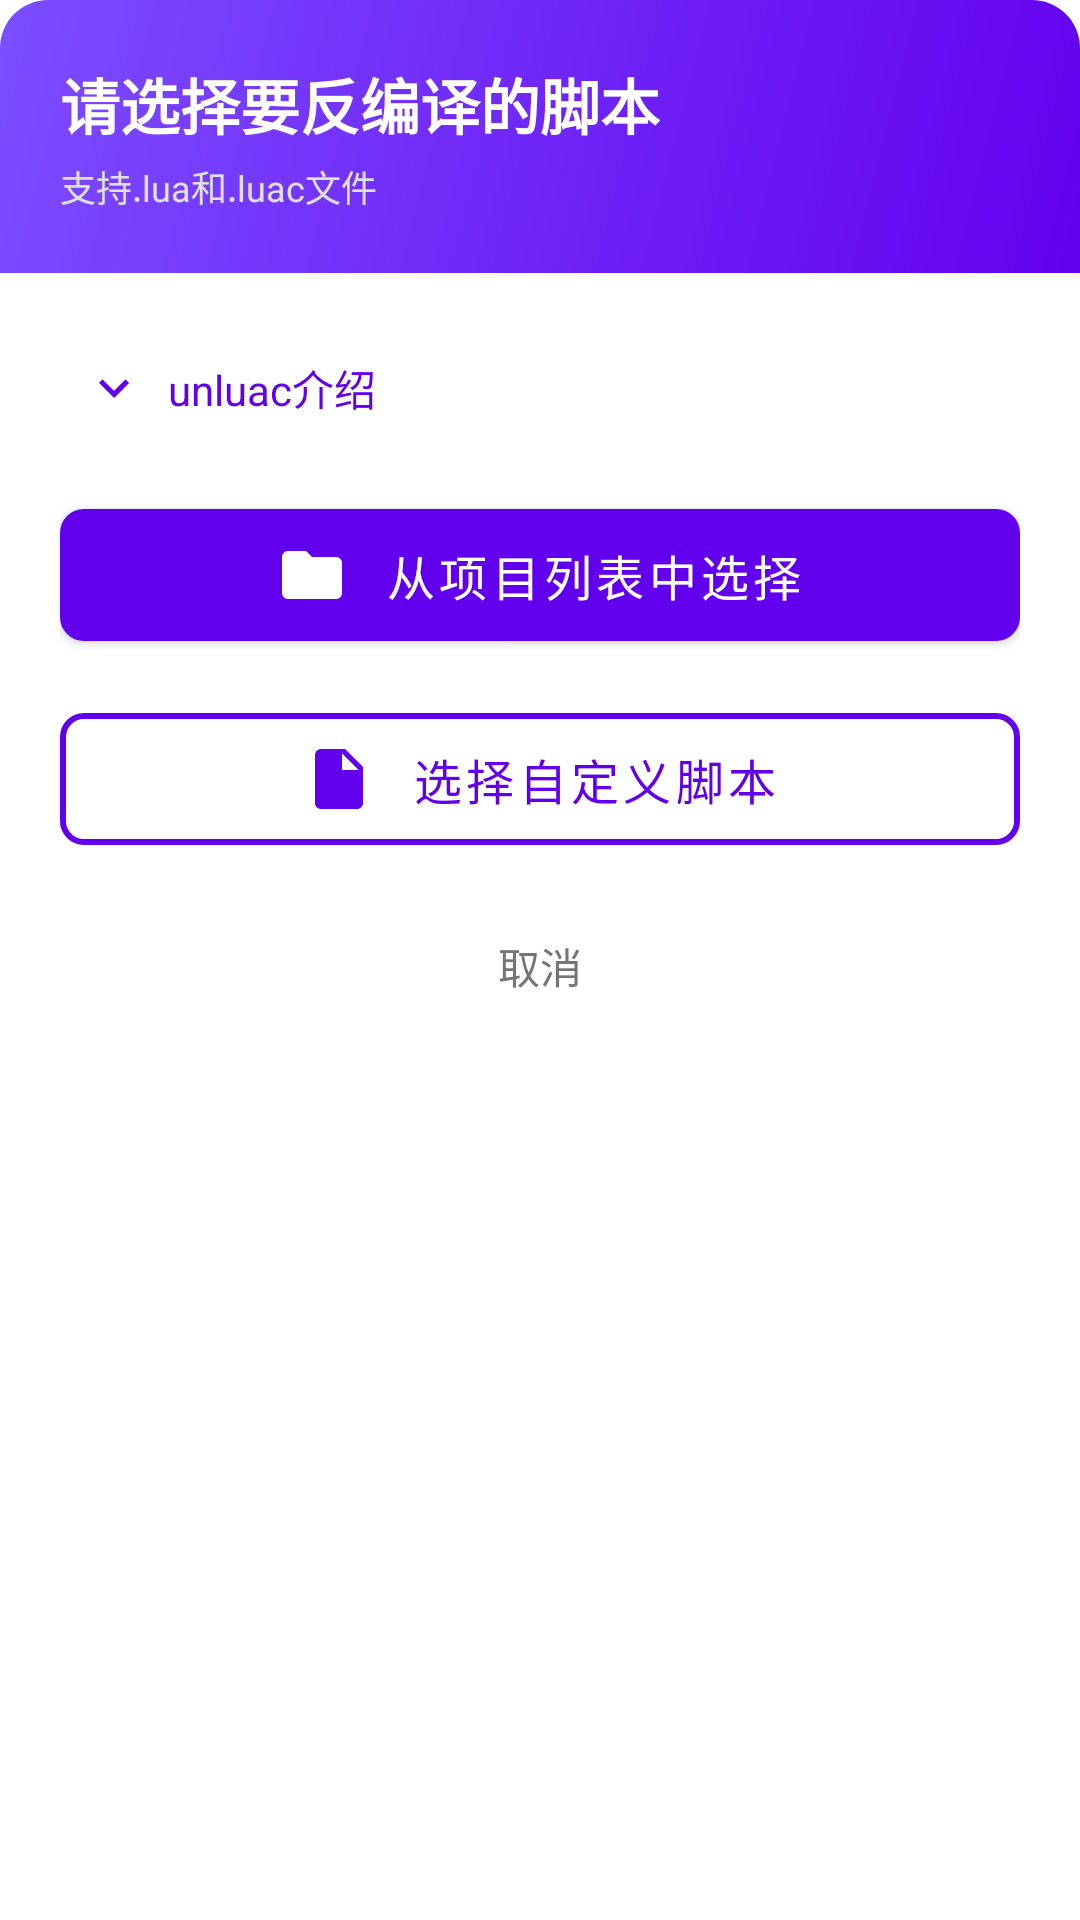

Icon bounding boxes for this 1080×1920 phone screenshot, format (x1, y1, x2, y2):
expand more: (99, 379, 129, 398)
